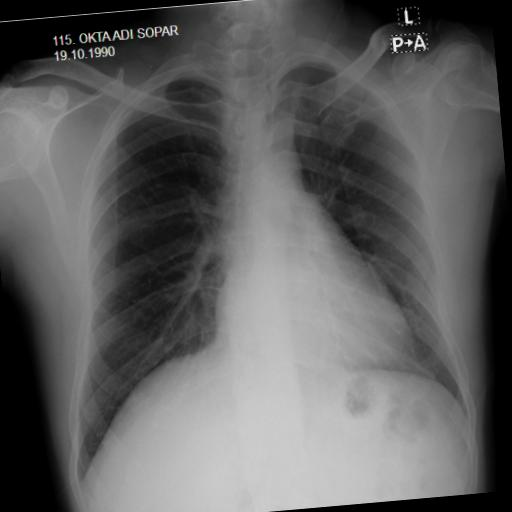kardiomegali: (32, 16, 486, 496)
